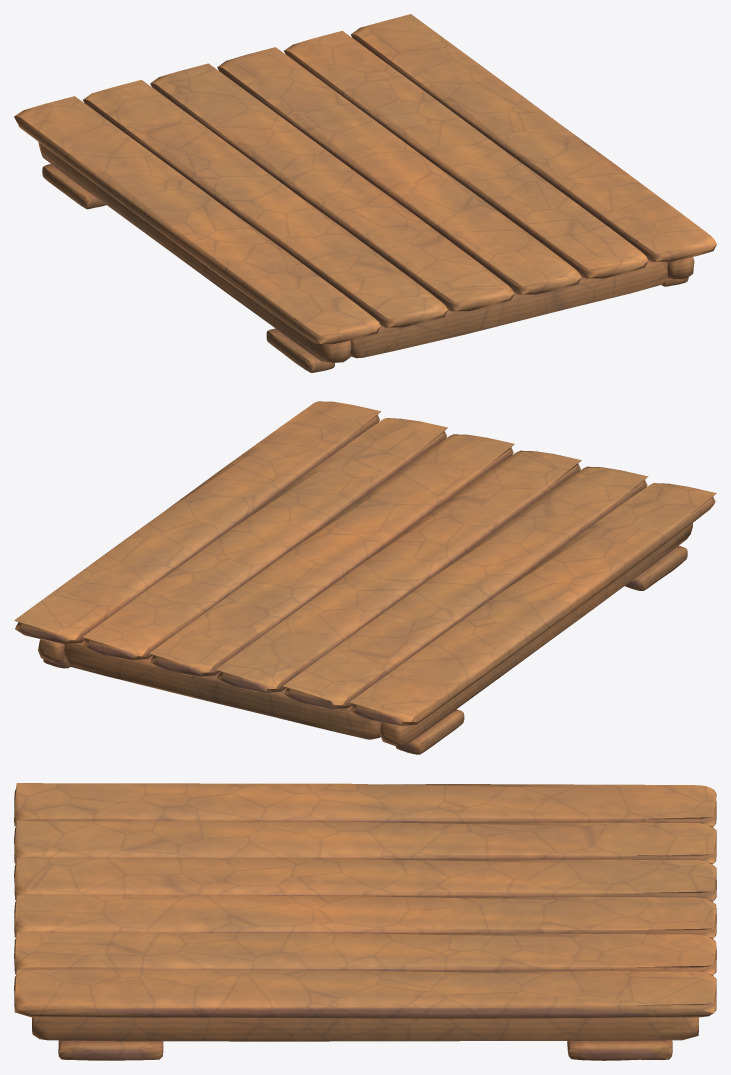
Rendered from T07_ThinTimberPlatform3m.fbx.
The picture shows the model from 3 angles, top to bottom: view 1: azimuth 30°, elevation 25°; view 2: azimuth 150°, elevation 25°; view 3: azimuth 270°, elevation 25°; orthographic projection. The views are drawn at different scales.
Parts seen in each view (by area): view 1: T07_ThinTimberPlatform3m; view 2: T07_ThinTimberPlatform3m; view 3: T07_ThinTimberPlatform3m.
Boxes of the visible parts, left/top/right/bottom form: T07_ThinTimberPlatform3m: left=14, top=14, right=716, bottom=372; T07_ThinTimberPlatform3m: left=14, top=401, right=716, bottom=754; T07_ThinTimberPlatform3m: left=14, top=783, right=716, bottom=1060.
Bounding box in the file's own units: 3 × 0.4007 × 4.
